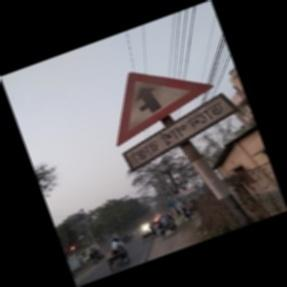Side-road-right: (114, 70, 240, 171)
